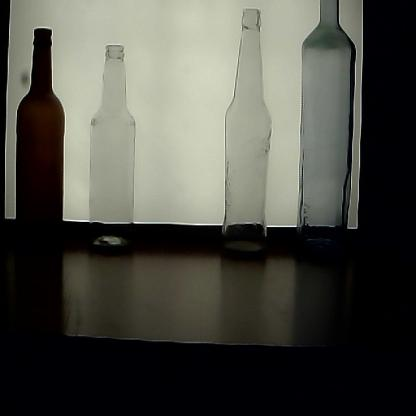Can: (294, 2, 359, 268), (218, 7, 276, 268), (12, 27, 69, 266), (84, 42, 140, 264)
